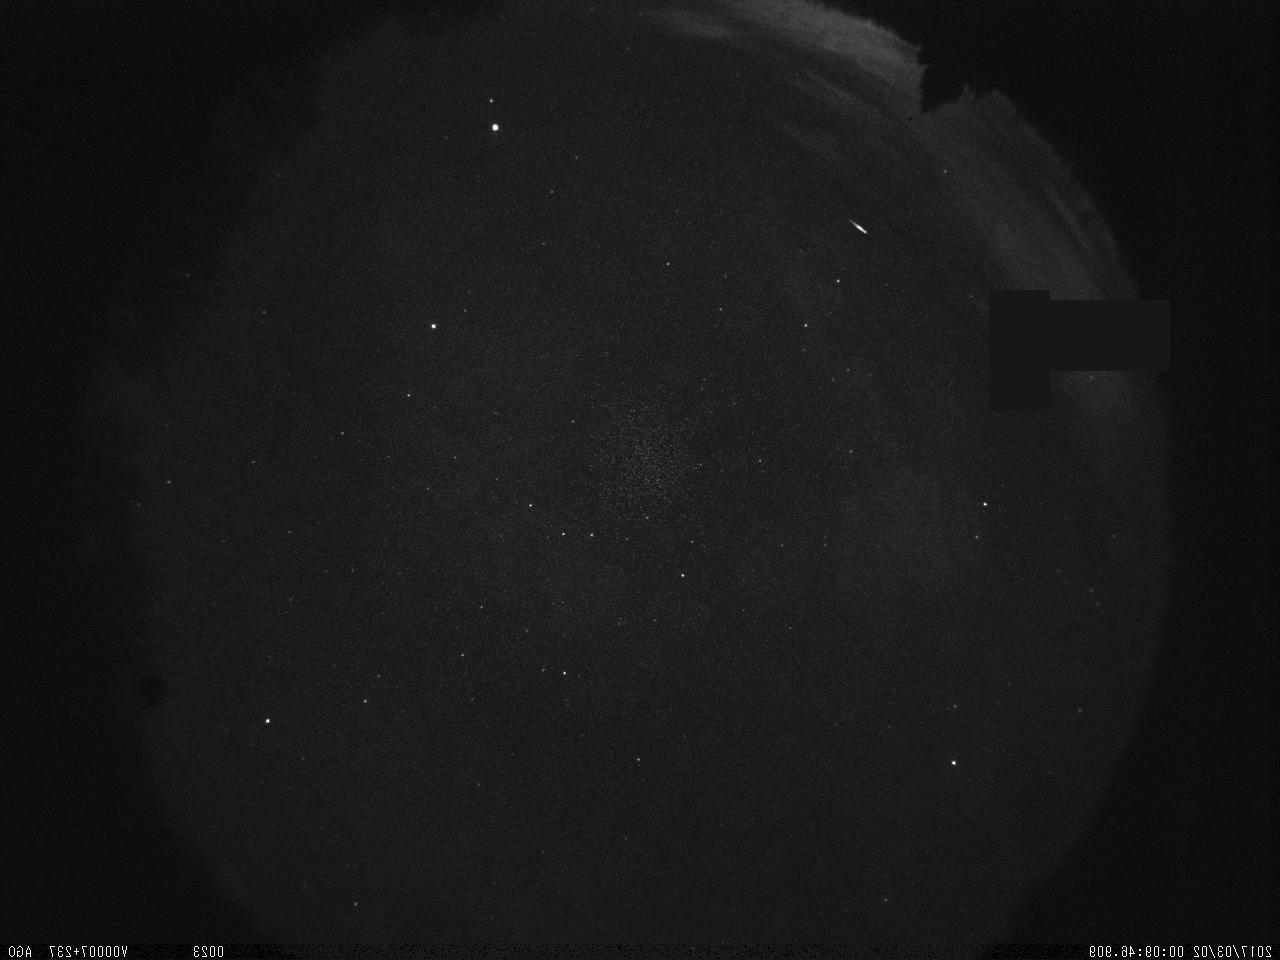meteor: (844, 215, 871, 237)
